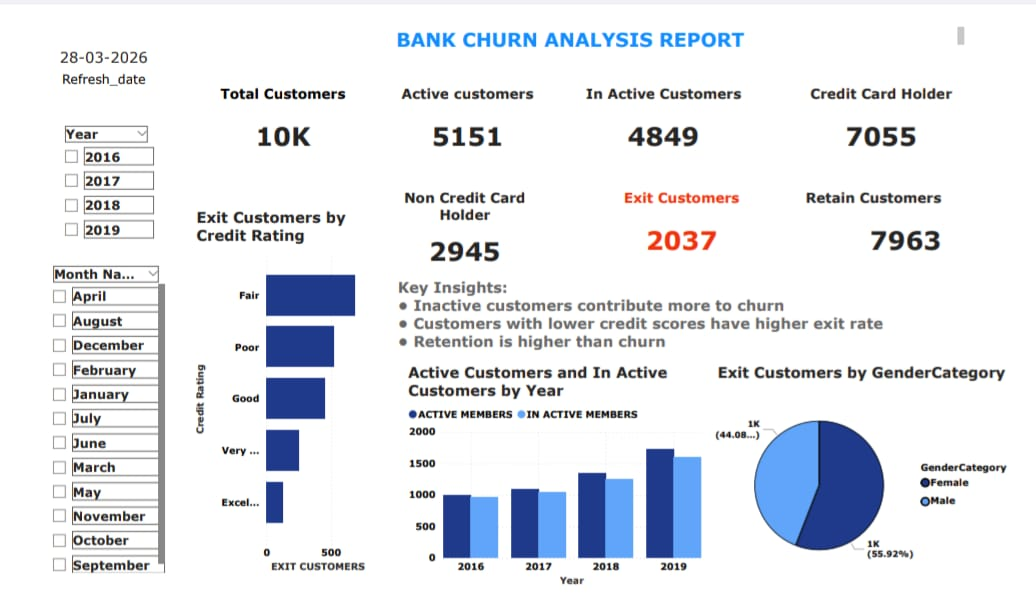

Layout of this report page (visuals, bound fields, positions):
{"tool":"powerbi","page":{"name":"BANK REPORT","canvas":[1280,720],"ordinal":0},"visuals":[{"type":"card","title":"Total Customers","fields":{"Values":["Bank_Churn.TC"]},"box":[218.9,79.5,246.5,107],"z":0},{"type":"card","title":"Active customers","fields":{"Values":["Bank_Churn.ActiveMember"]},"box":[465.4,79.5,222.2,107],"z":1000},{"type":"clusteredColumnChart","title":"Active Customers and In Active Customers by Year","fields":{"Y":["Bank_Churn.ACTIVE MEMBERS","Bank_Churn.IN ACTIVE MEMBERS"],"Category":["Bank_Churn.Bank DOJ.Variation.Date Hierarchy.Year"]},"box":[496.2,431.4,381.1,288.6],"z":2000},{"type":"card","title":"Credit Card Holder","fields":{"Values":["Bank_Churn.CCH"]},"box":[969.7,79.5,264.3,107],"z":3000},{"type":"card","title":"Non Credit Card Holder","fields":{"Values":["Bank_Churn.NONCREDITHOLDERS"]},"box":[462.2,210.8,222.2,115.1],"z":4000},{"type":"card","title":"Exit Customers","fields":{"Values":["Bank_Churn.EXITCUSTOMERS"]},"box":[695.7,210.8,304.9,107],"z":5000},{"type":"card","title":"Retain Customers","fields":{"Values":["Bank_Churn.Retaincustomers"]},"box":[1000.5,210.8,264.3,107],"z":6000},{"type":"slicer","fields":{"Values":["Bank_Churn.Month Name"]},"box":[36.7,303.1,160.2,399.6],"z":7000},{"type":"slicer","fields":{"Values":["Bank_Churn.Year"]},"box":[52.1,125.5,131.3,160.2],"z":8000},{"type":"textbox","box":[210.4,0,1002,42.5],"z":9000},{"type":"card","title":"In Active Customers","fields":{"Values":["Bank_Churn.IN ACTIVE MEMBERS"]},"box":[700.5,79.5,249.7,107],"z":10000},{"type":"pieChart","title":"Exit Customers by GenderCategory","fields":{"Y":["Bank_Churn.EXIT CUSTOMERS"],"Category":["Gender.GenderCategory"]},"box":[888.6,431.4,390.8,288.6],"z":11000},{"type":"clusteredBarChart","title":"Exit Customers by Credit Rating","fields":{"Category":["Bank_Churn.Credit Rating"],"Y":["Bank_Churn.EXIT CUSTOMERS"]},"box":[227,233.5,243.2,468.6],"z":12000},{"type":"card","fields":{"Values":["Bank_Churn.Refresh_date"]},"box":[0,21.1,228.6,64.9],"z":13000},{"type":"textbox","box":[483.2,317.8,729.7,102.2],"z":14000}]}

Visuals, with their boxes on the page's 1280x720 design canvas (x1, y1, x2, y2). These are canvas units, not pixel positions in the 1036x605 screenshot, which may show the page scaled, cropped or inside an application window:
"Total Customers" card: bbox(219, 80, 465, 186)
"Active customers" card: bbox(465, 80, 688, 186)
"Active Customers and In Active Customers by Year" clusteredColumnChart: bbox(496, 431, 877, 720)
"Credit Card Holder" card: bbox(970, 80, 1234, 186)
"Non Credit Card Holder" card: bbox(462, 211, 684, 326)
"Exit Customers" card: bbox(696, 211, 1001, 318)
"Retain Customers" card: bbox(1000, 211, 1265, 318)
slicer - Bank_Churn.Month Name: bbox(37, 303, 197, 703)
slicer - Bank_Churn.Year: bbox(52, 126, 183, 286)
textbox: bbox(210, 0, 1212, 42)
"In Active Customers" card: bbox(700, 80, 950, 186)
"Exit Customers by GenderCategory" pieChart: bbox(889, 431, 1279, 720)
"Exit Customers by Credit Rating" clusteredBarChart: bbox(227, 234, 470, 702)
card - Bank_Churn.Refresh_date: bbox(0, 21, 229, 86)
textbox: bbox(483, 318, 1213, 420)
